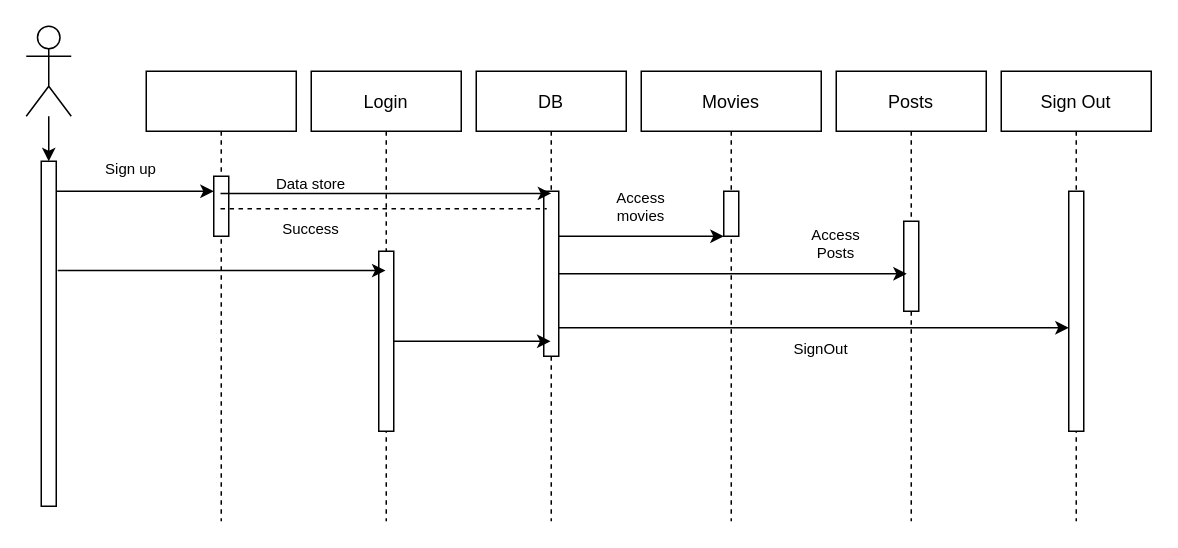
Image size: 1178x548. Some labels were removed from this diagram. Here are the shapes that lost their labels. From the top down, the box of each, then its label:
(25, 25, 71, 116): User
(145, 70, 296, 521): Registration
